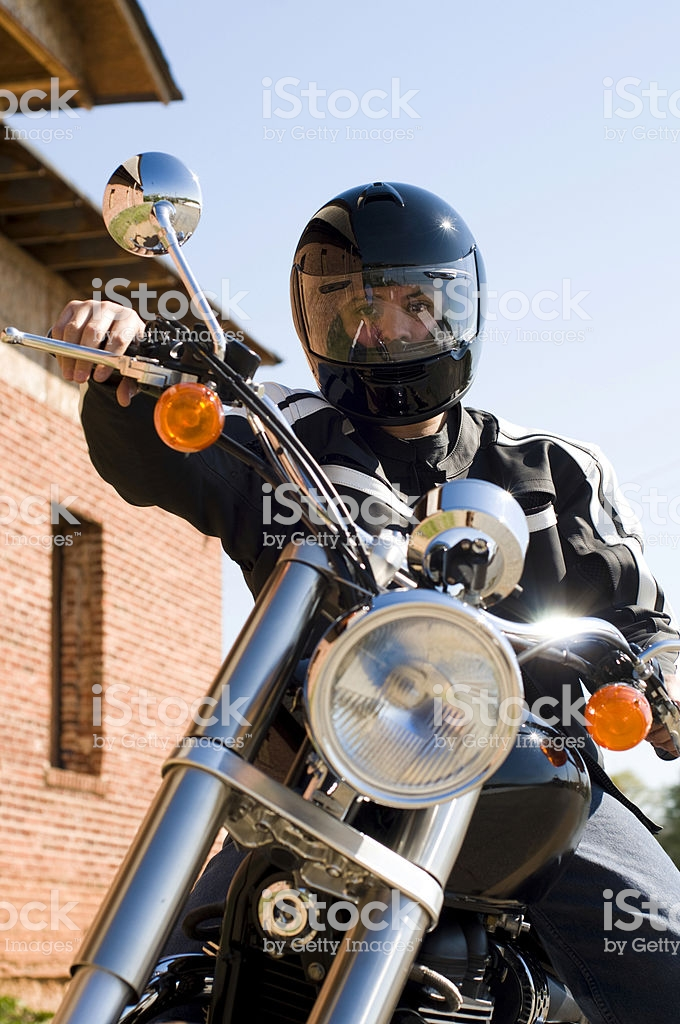helmet: (284, 181, 485, 424)
